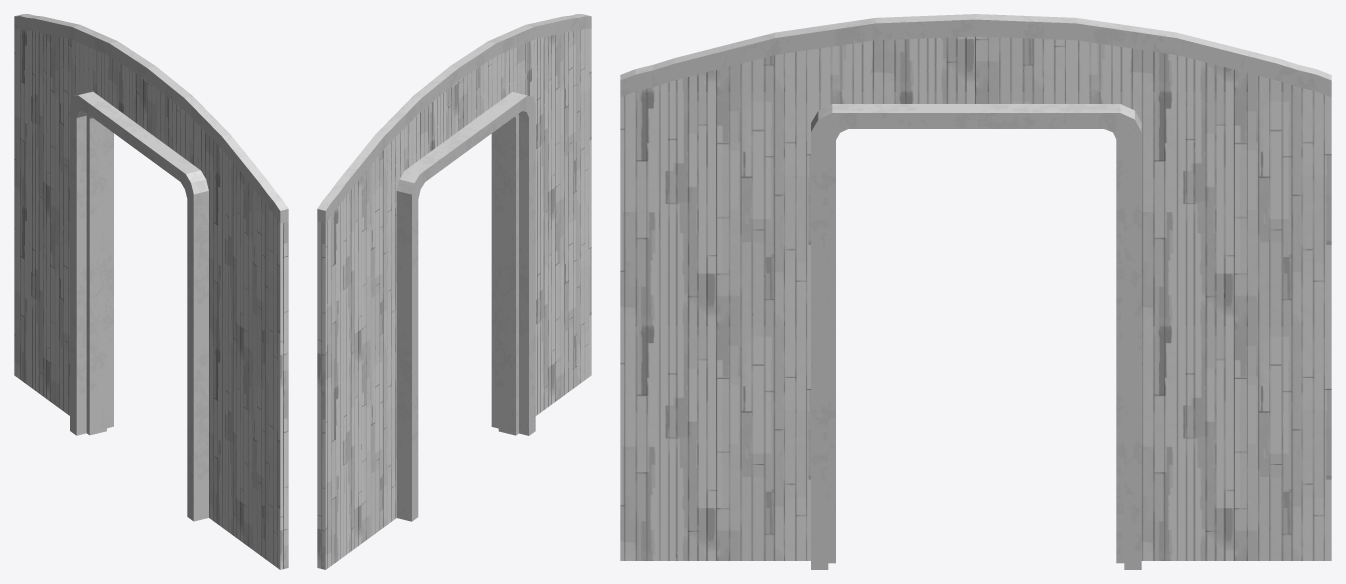
Rendered from Train Coach Body_B_001.fbx.
3 renders of one model, left to right at view 1: azimuth 30°, elevation 25°; view 2: azimuth 150°, elevation 25°; view 3: azimuth 270°, elevation 25°, orthographic. The views are drawn at different scales.
Parts seen in each view (by area): view 1: Train_Coach_Body_B_001; view 2: Train_Coach_Body_B_001; view 3: Train_Coach_Body_B_001.
Part boxes in pixels (box(x1,y1,x2,y2)): Train_Coach_Body_B_001: box(14, 14, 288, 569); Train_Coach_Body_B_001: box(317, 14, 591, 569); Train_Coach_Body_B_001: box(620, 14, 1331, 569).
Bounding box in the file's own units: 22.37 × 231 × 275.
3 materials, 3 textured.
